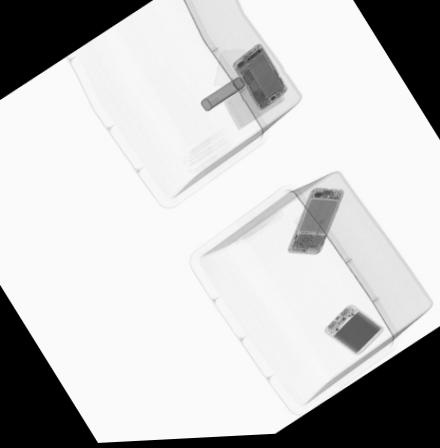Powerbank: (323, 308, 383, 359)
